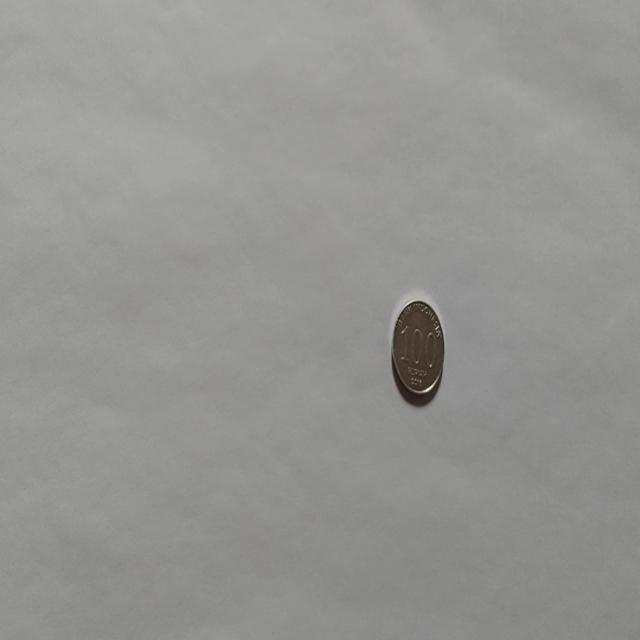seratus rupiah: (390, 298, 444, 398)
